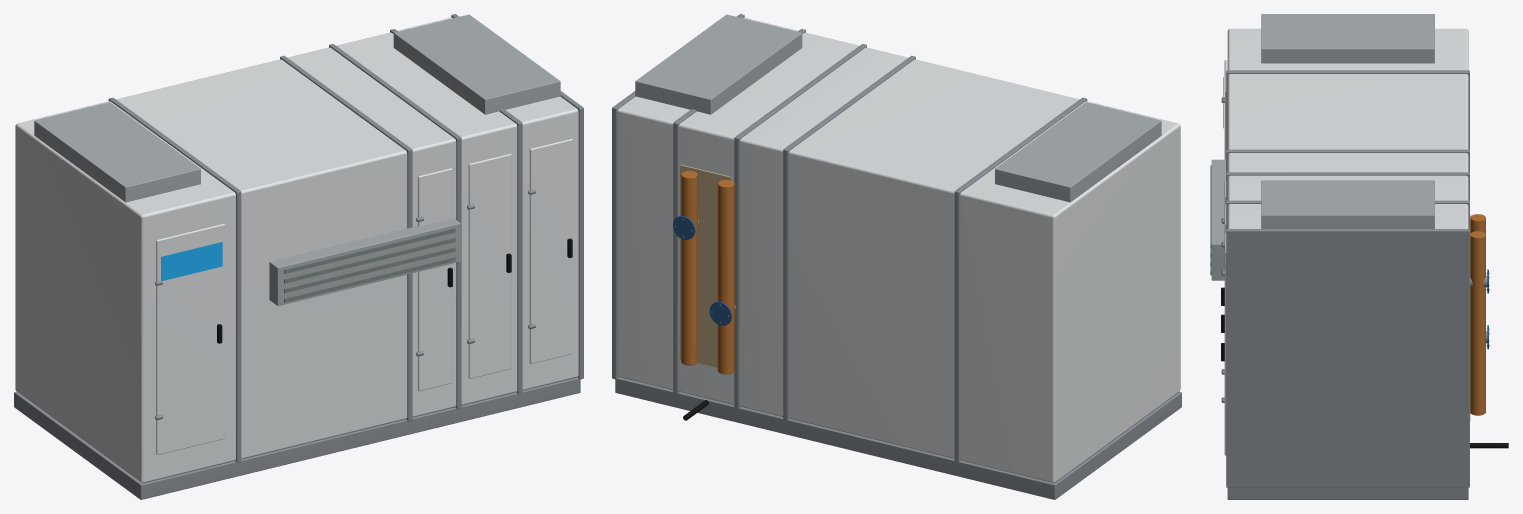
The model's file is ahu.glb.
3 views of the same model, side by side, from view 1: azimuth 30°, elevation 25°; view 2: azimuth 150°, elevation 25°; view 3: azimuth 270°, elevation 25° (orthographic). The views are drawn at different scales.
Parts seen in each view (by area): view 1: casing, screen; view 2: casing; view 3: casing.
Part boxes in pixels (bbox=[...]): casing: bbox=[14, 14, 583, 499]; screen: bbox=[161, 242, 222, 280]; casing: bbox=[612, 14, 1181, 499]; casing: bbox=[1210, 14, 1508, 499].
Bounding box in the file's own units: 3.62 × 2.34 × 2.23.
